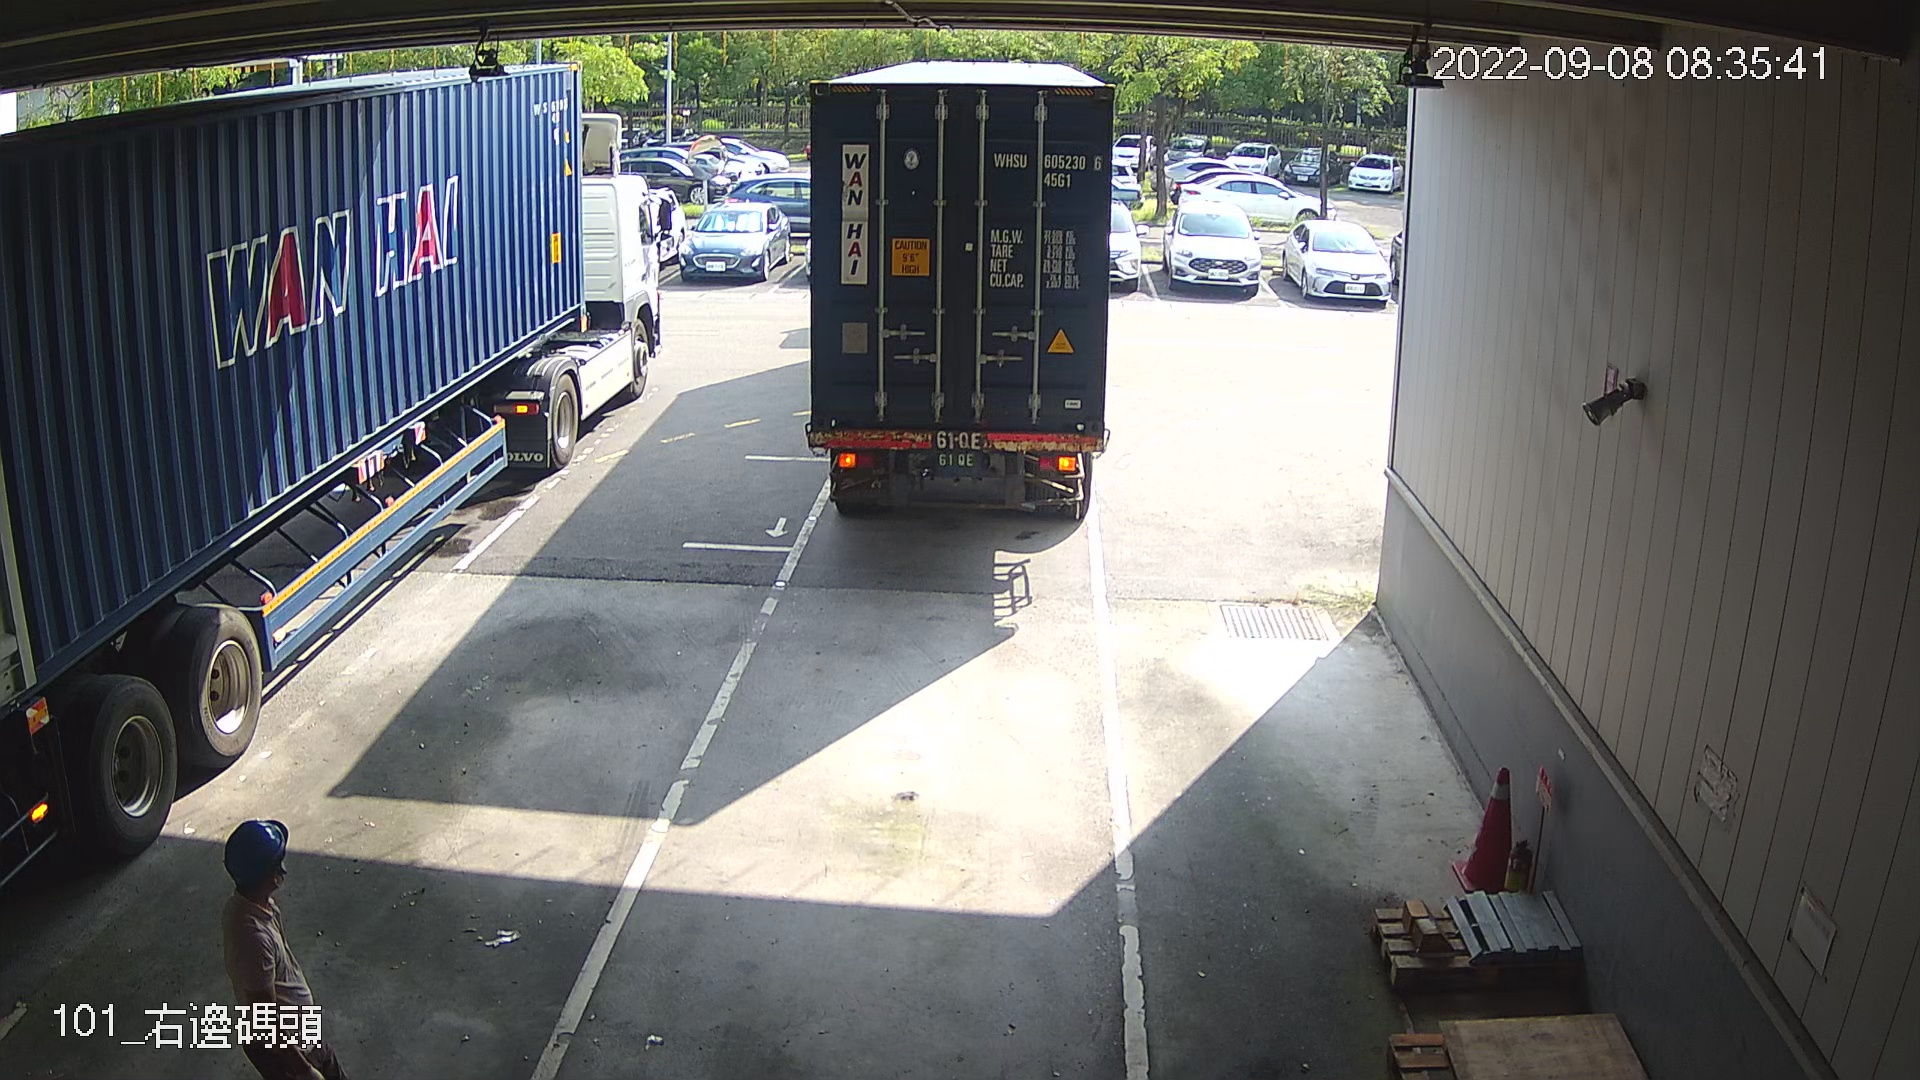container: (985, 142, 1106, 196)
